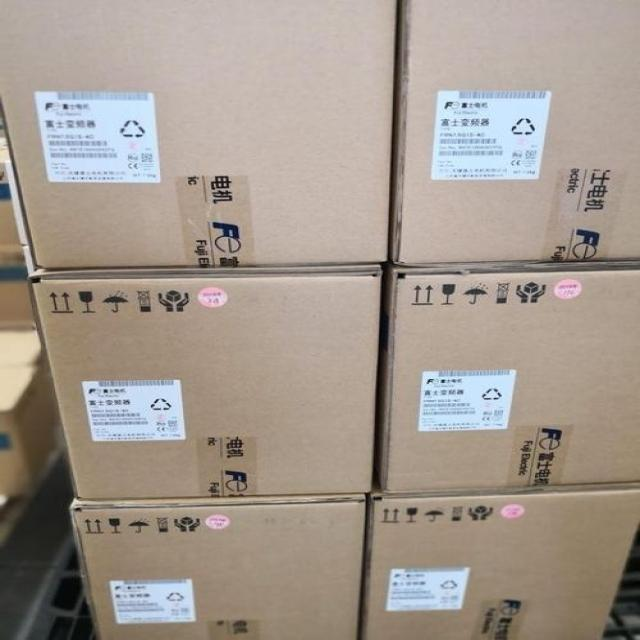box: (0, 0, 396, 271), (28, 263, 381, 499), (387, 1, 639, 267), (373, 258, 639, 493), (357, 481, 639, 639), (69, 493, 365, 639)
